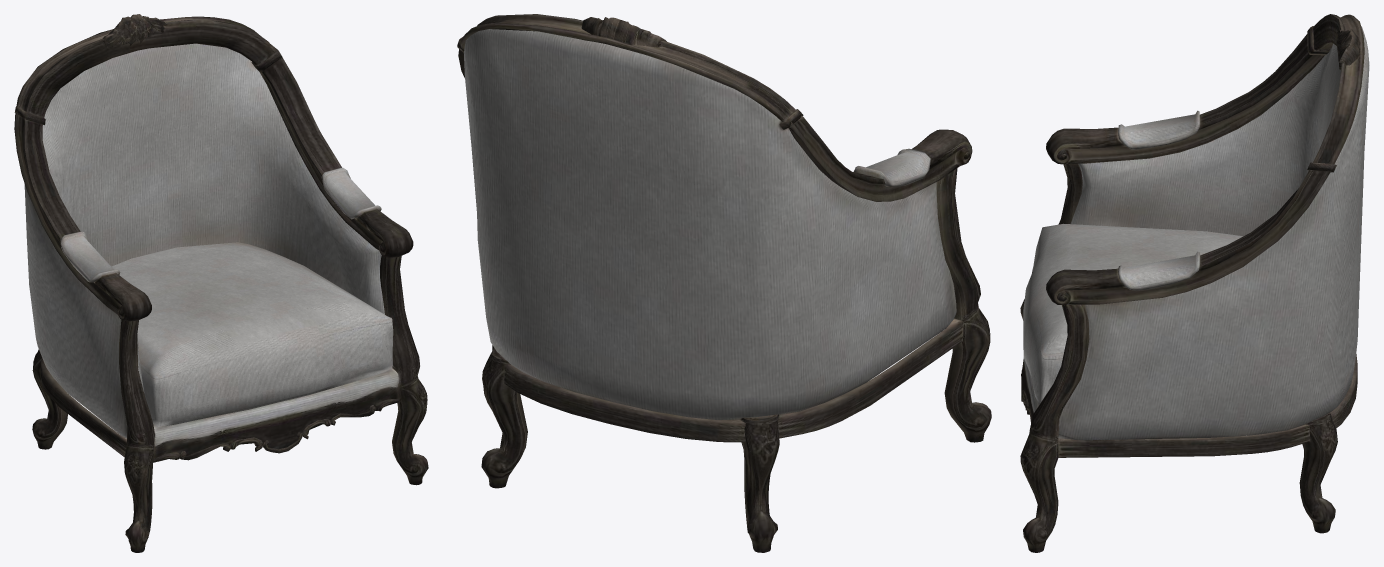
Rendered from ArmChair_01_1k.gltf.
The picture shows the model from 3 angles, left to right: view 1: azimuth 30°, elevation 25°; view 2: azimuth 150°, elevation 25°; view 3: azimuth 270°, elevation 25°; orthographic projection. The views are drawn at different scales.
Parts seen in each view (by area): view 1: ArmChair_01; view 2: ArmChair_01; view 3: ArmChair_01.
Part boxes in pixels (x1,y1,x2,y2): ArmChair_01: (14,14,428,552); ArmChair_01: (457,14,991,552); ArmChair_01: (1020,14,1369,552).
Size of the model in its own units: 0.8482 by 1.06 by 0.7658.
1 material, 1 textured.
